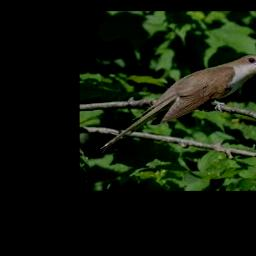Cuckoo: (100, 54, 256, 153)
